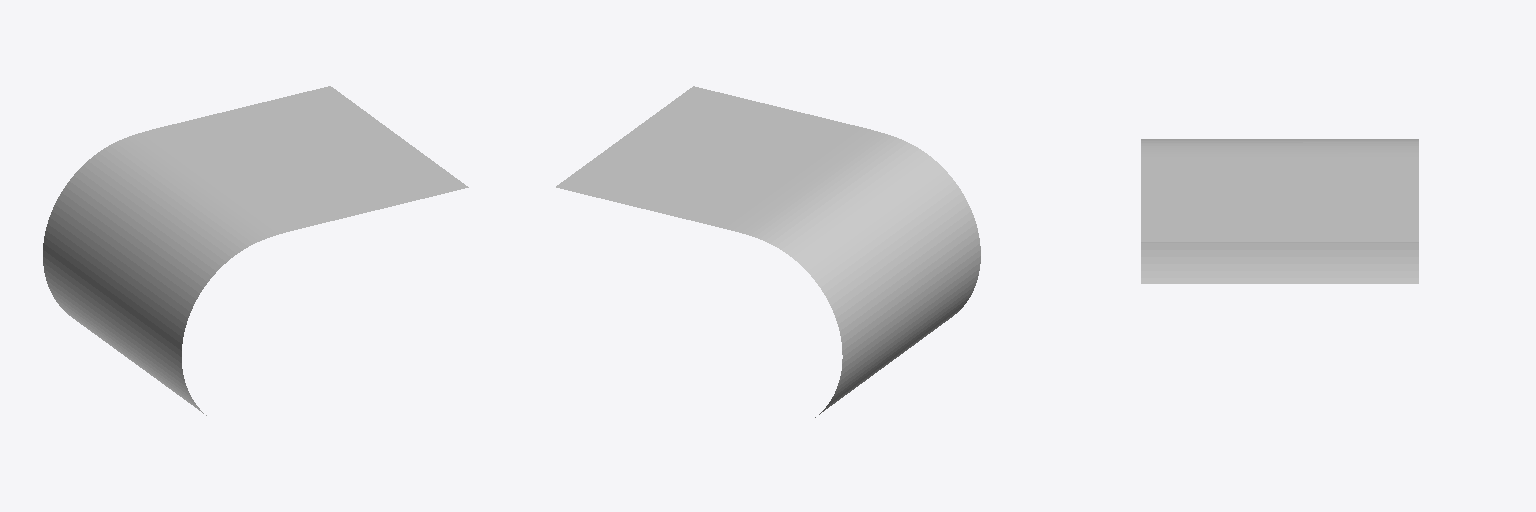
File: CurvePaper_000047.obj
3 renders of one model, left to right at view 1: azimuth 30°, elevation 25°; view 2: azimuth 150°, elevation 25°; view 3: azimuth 270°, elevation 25°, orthographic.
Parts seen in each view (by area): view 1: Plane; view 2: Plane; view 3: Plane.
Part boxes in pixels (left/top/right/bottom): Plane: left=43, top=86, right=468, bottom=415; Plane: left=556, top=86, right=980, bottom=417; Plane: left=1141, top=139, right=1418, bottom=283.
Bounding box in the file's own units: 2.71 × 1.52 × 2.26.